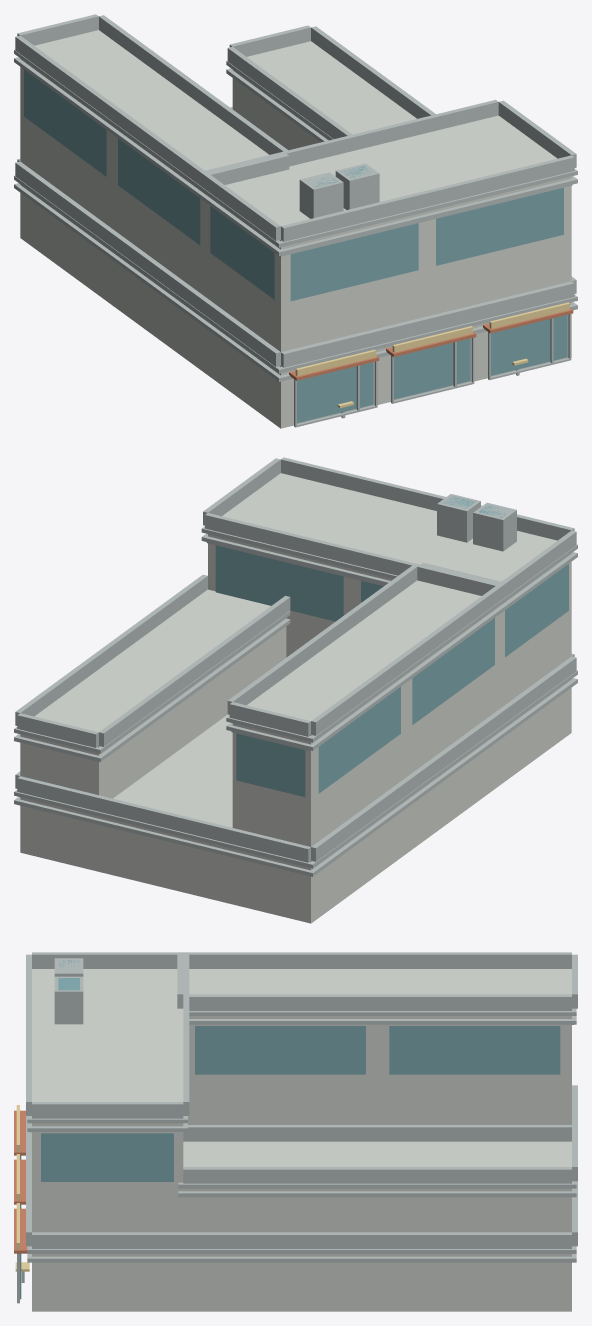
The model's file is commercial_2x3_court.glb.
3 renders of one model, top to bottom at view 1: azimuth 30°, elevation 25°; view 2: azimuth 150°, elevation 25°; view 3: azimuth 270°, elevation 25°, orthographic. The views are drawn at different scales.
Visible parts, largest first — view 1: commercial_2x3_court_0; view 2: commercial_2x3_court_0; view 3: commercial_2x3_court_0.
Boxes of the visible parts, x1,y1,x2,y2 form: commercial_2x3_court_0: (14, 14, 577, 428); commercial_2x3_court_0: (14, 457, 577, 923); commercial_2x3_court_0: (14, 952, 577, 1311).
Bounding box in the file's own units: 15 × 10.5 × 23.5.
